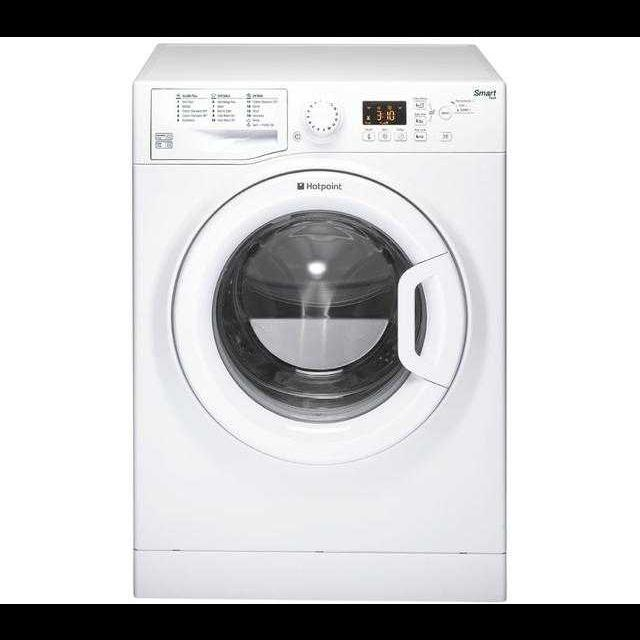Washing-Machine: (132, 42, 510, 596)
